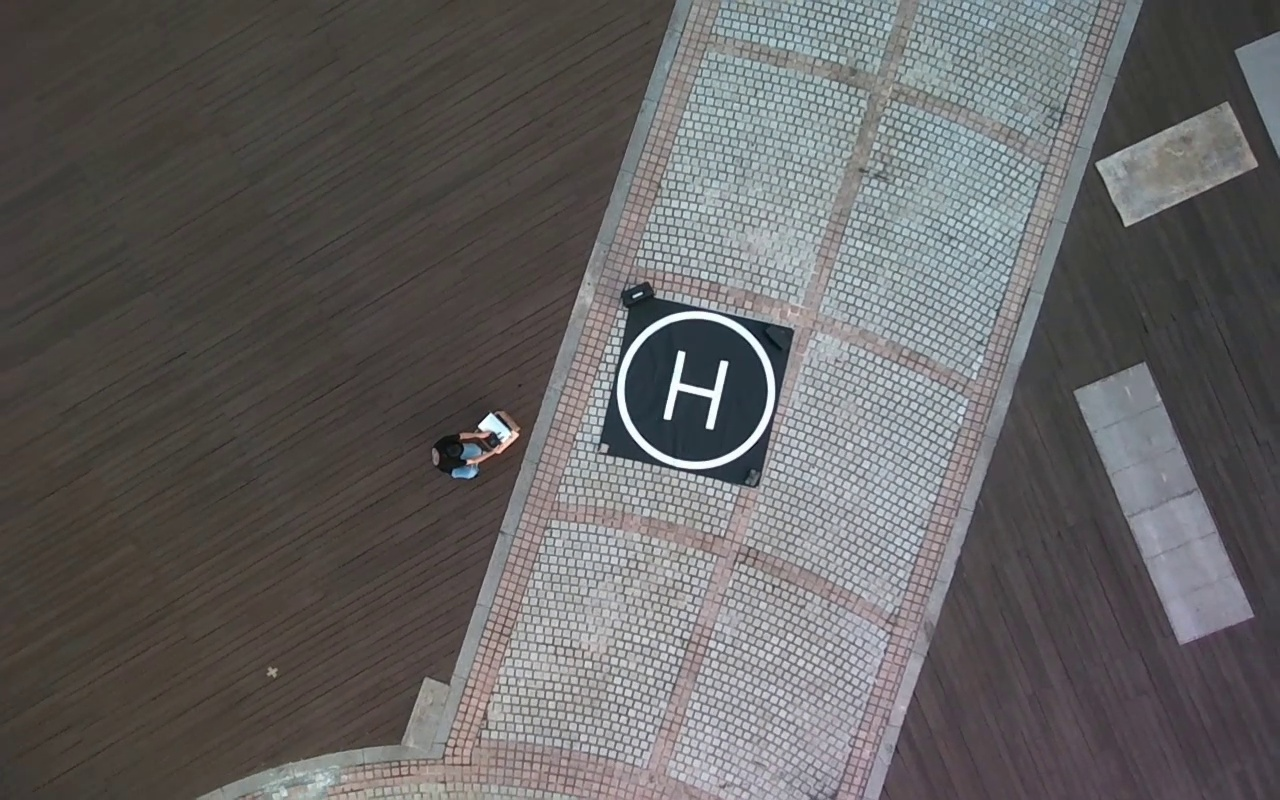H: (660, 346, 731, 432)
heliport: (617, 309, 778, 466)
